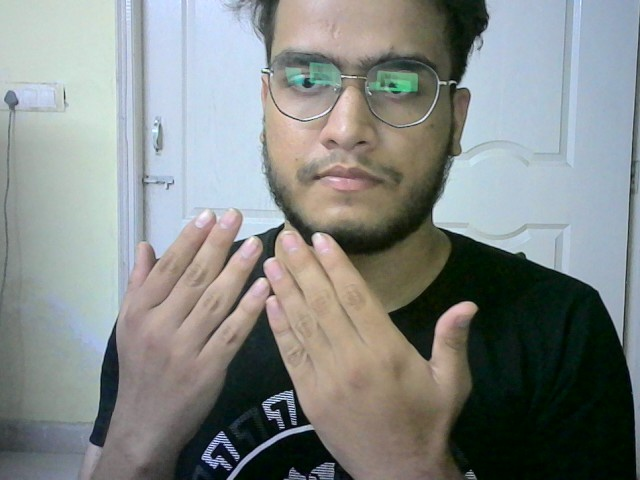Thank You: (109, 206, 482, 436)
